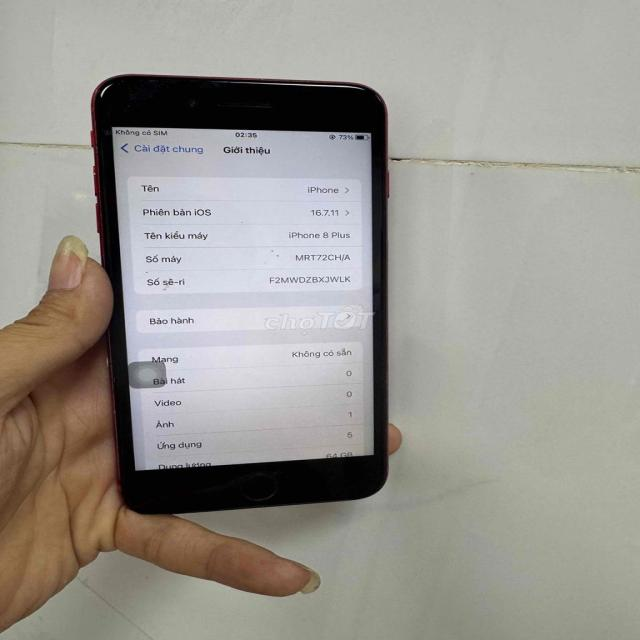gen_7_8: (80, 70, 394, 516)
scratch: (134, 260, 182, 294), (259, 243, 284, 265)
